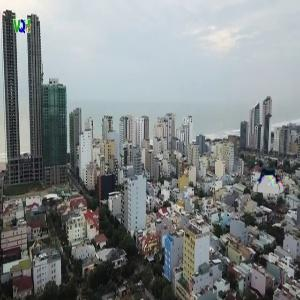drone: (252, 159, 288, 195)
